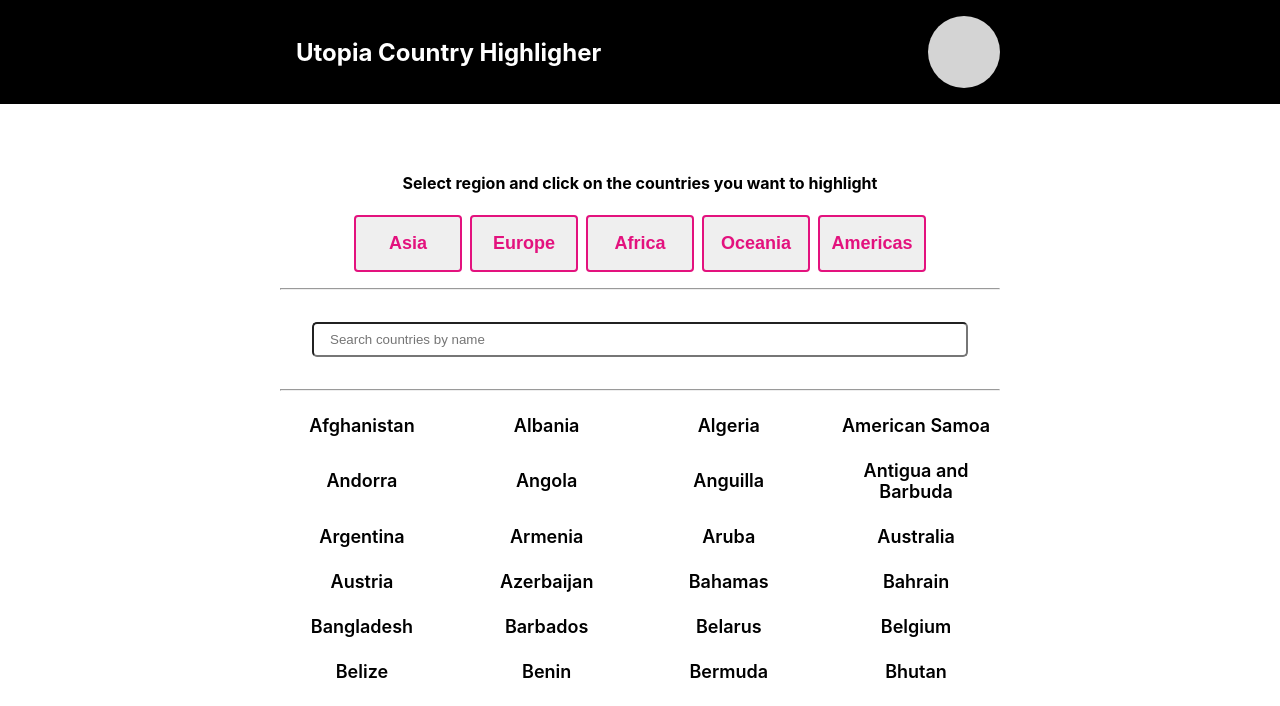
Scenario: Application testing › able to filter countries when typing in search box
The width and height of the screenshot is (1280, 706).
In the field with placeholder "Search countries by name": (640, 339) [312,322,968,356], type "vi"
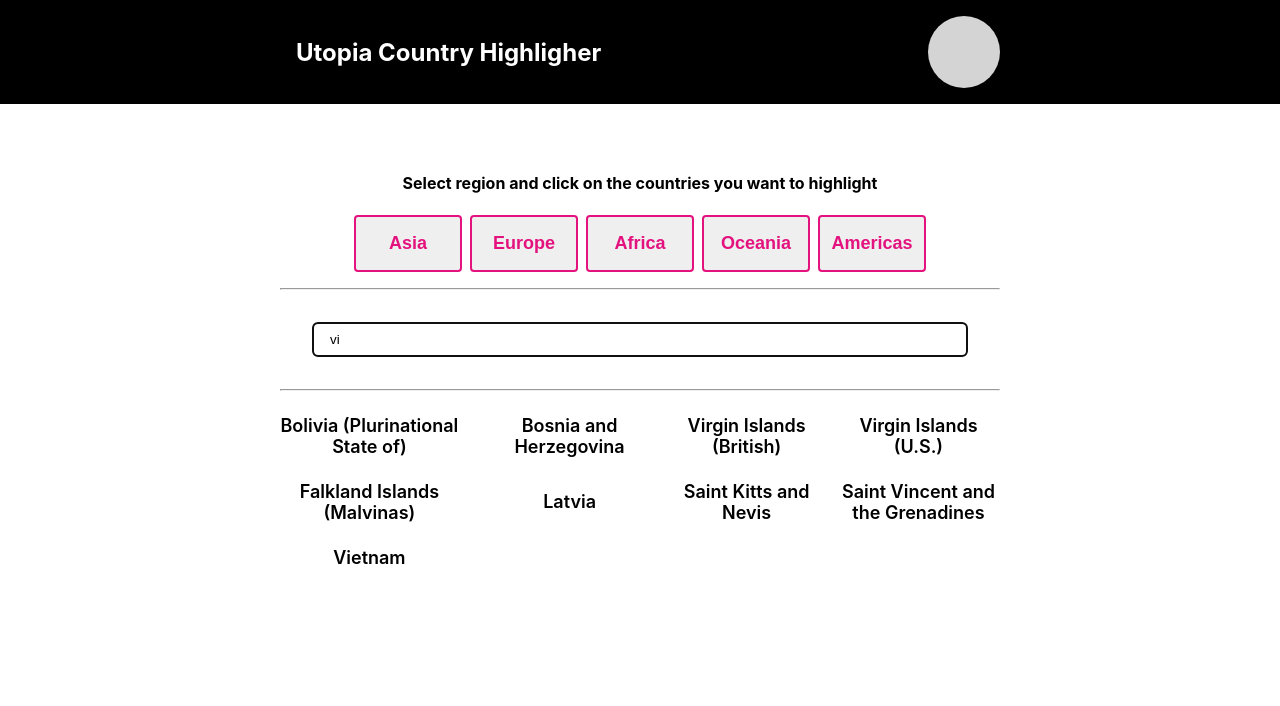
Now the number of elements with class "country" is 9
Replace the text in the field with placeholder "Search countries by name" with "fi": (640, 339) [312,322,968,356]
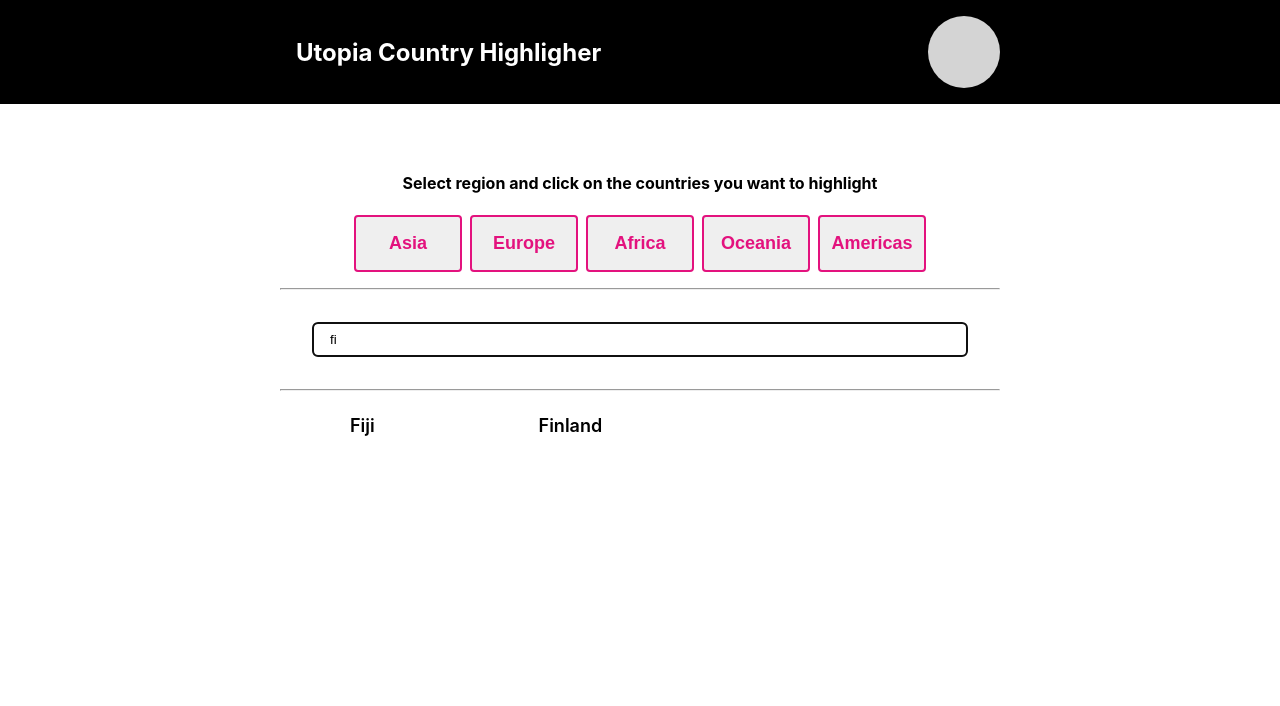
Now the number of elements with class "country" is 2, box [350,414,375,436]; [539,414,602,436]
